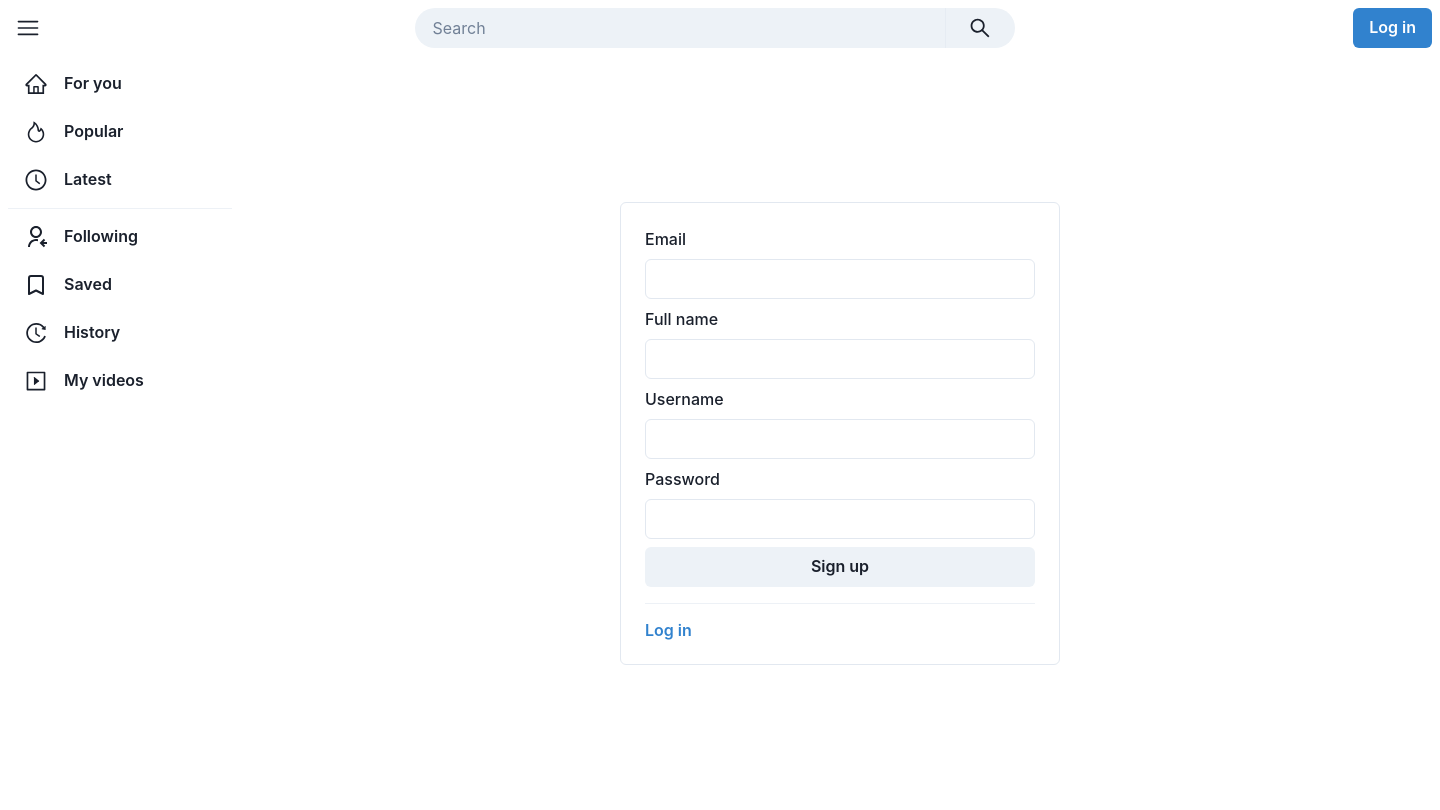
Test: SignupPage › signup form › full name input › should show error message on submit if value is empty
This screenshot has width=1440, height=810.
Step 1. Click the button "Sign up" → (840, 566), box [645,546,1035,586]
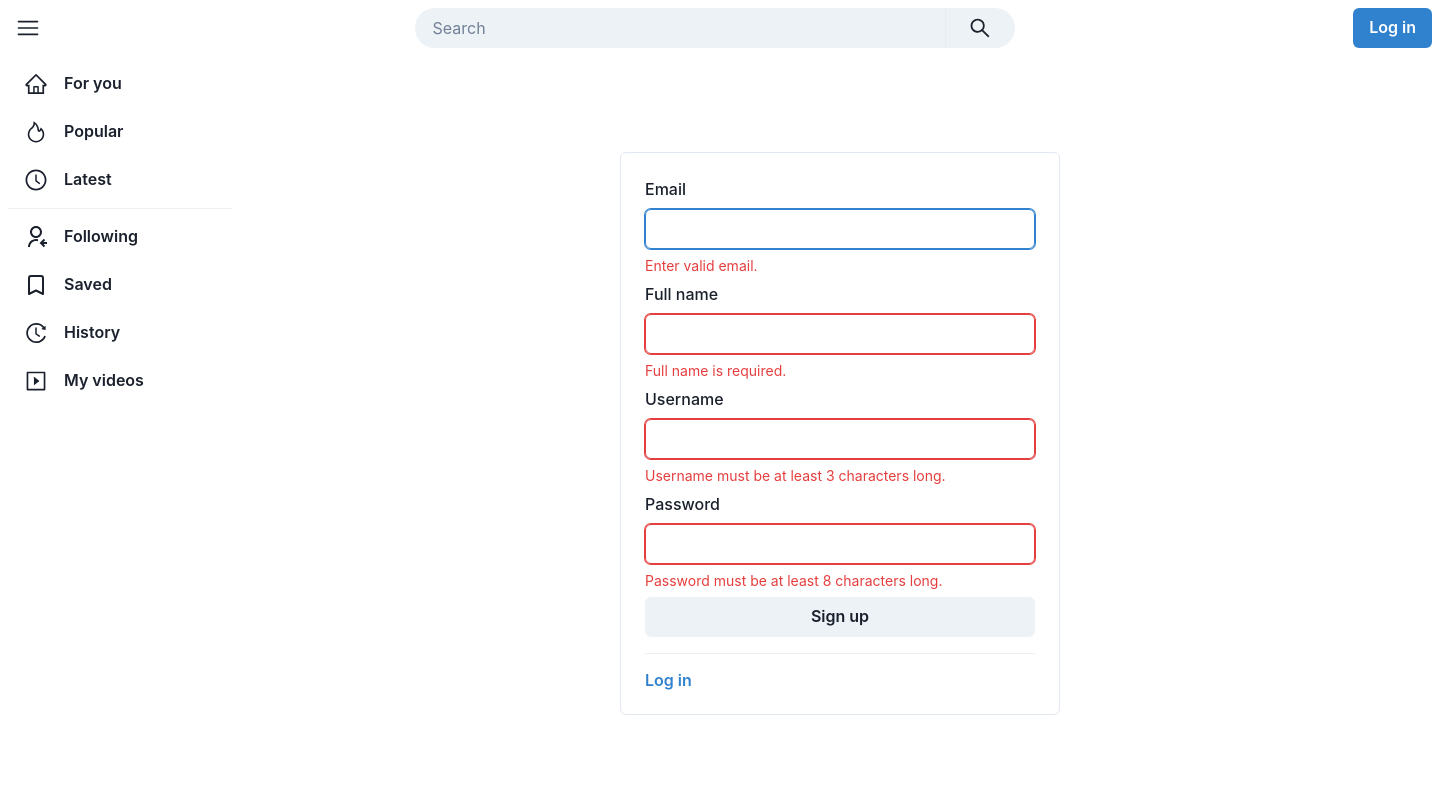
Result: the message "Full name is required." is shown at [645,362,786,378]
